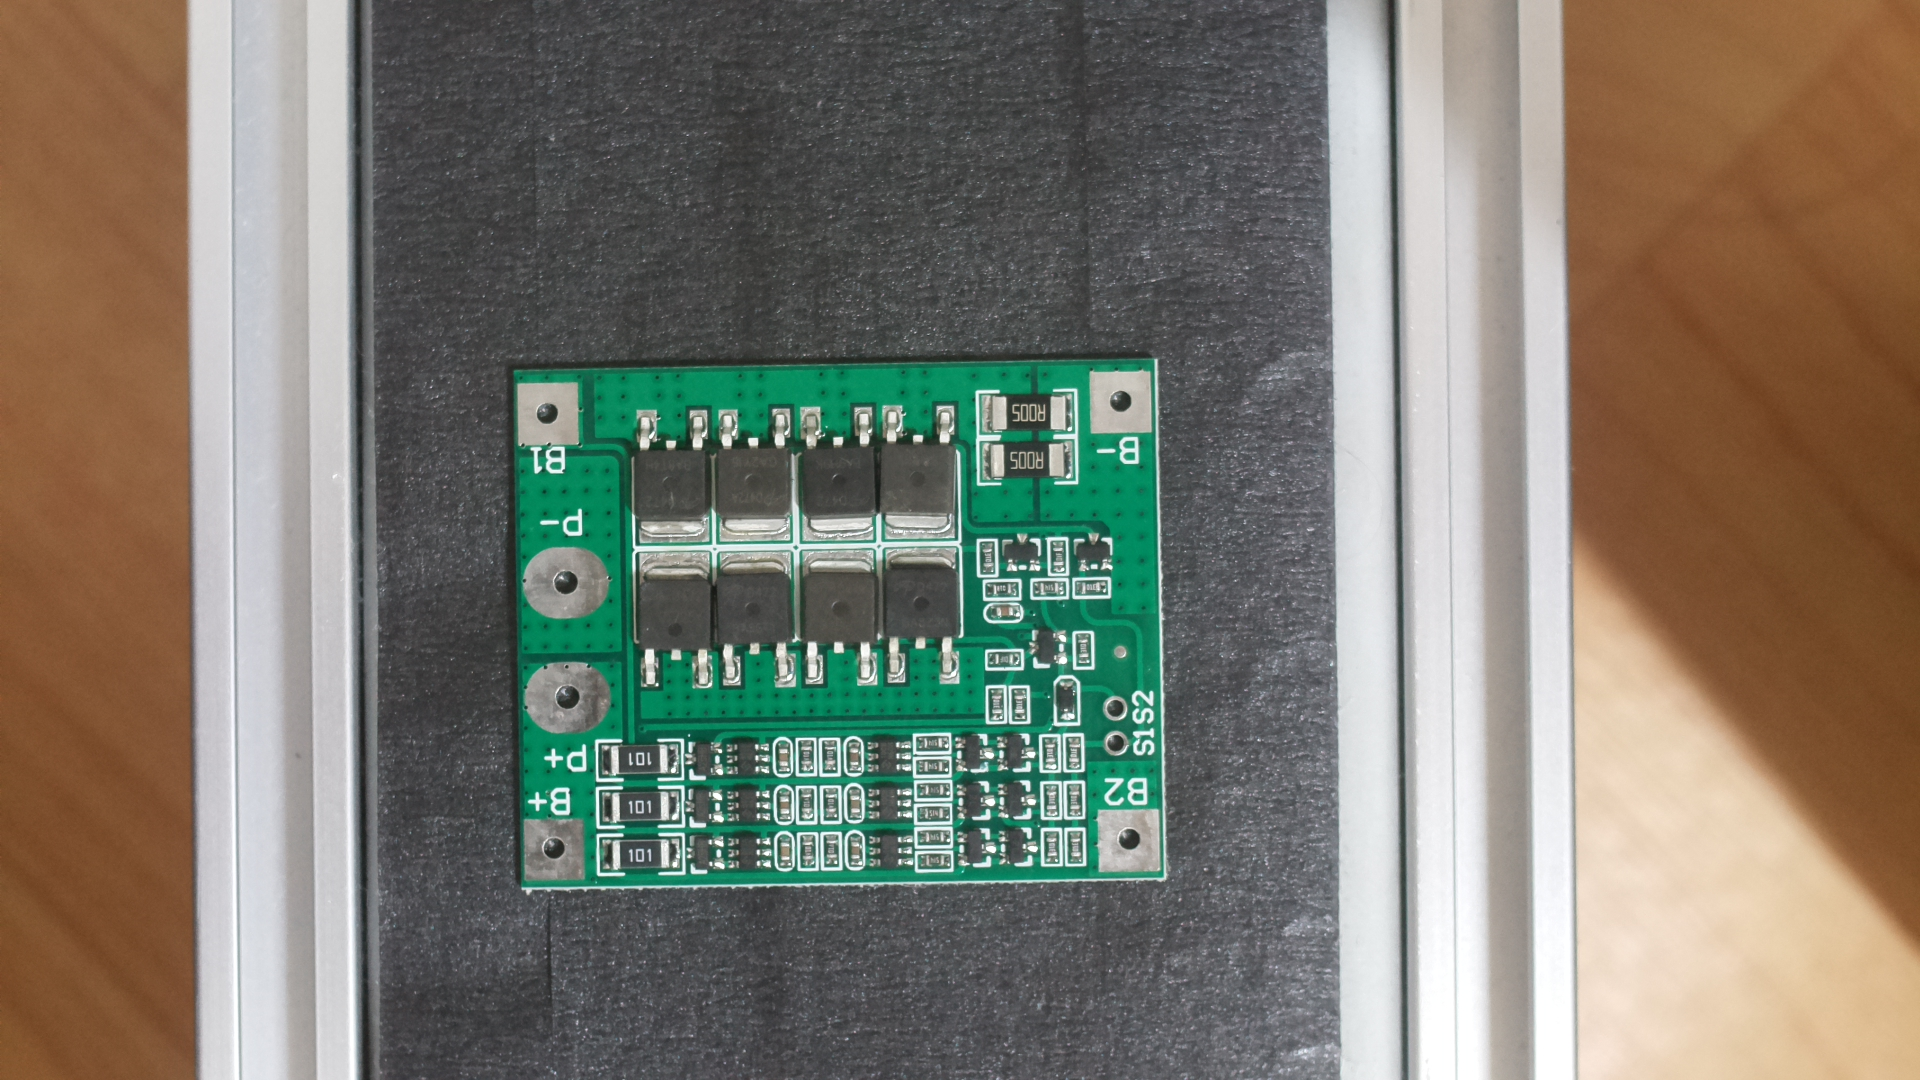C_Normal: (493, 343, 1191, 902)
